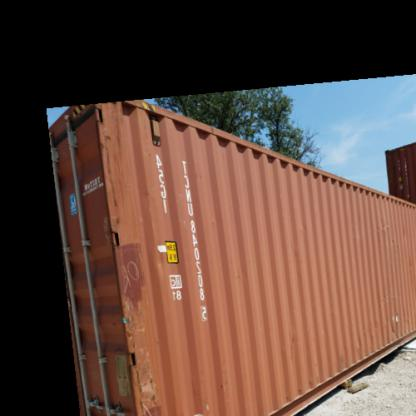Damage: (111, 245, 164, 415), (87, 113, 125, 193), (380, 302, 404, 340), (370, 212, 392, 241)
